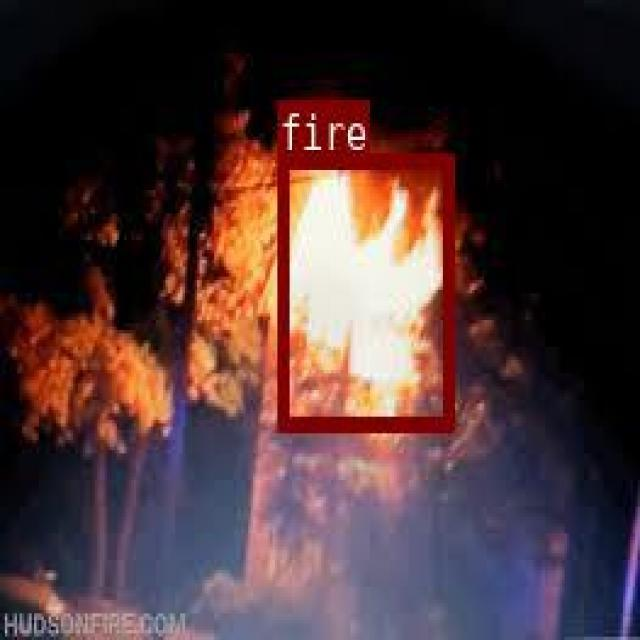fire: (276, 152, 451, 430)
